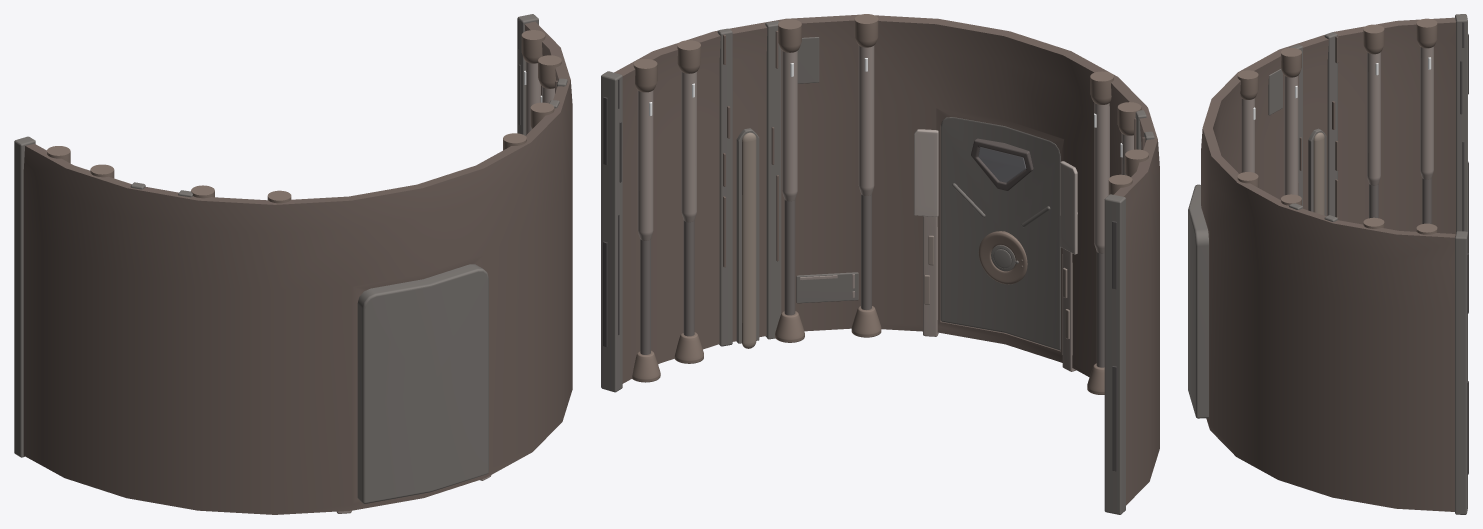
File: chuancang.fbx
3 renders of one model, left to right at view 1: azimuth 30°, elevation 25°; view 2: azimuth 150°, elevation 25°; view 3: azimuth 270°, elevation 25°, orthographic. The views are drawn at different scales.
Visible parts, largest first — view 1: polySurface441; view 2: polySurface441; view 3: polySurface441.
Boxes of the visible parts, bbox=[...] form: polySurface441: bbox=[14, 14, 572, 514]; polySurface441: bbox=[601, 14, 1159, 514]; polySurface441: bbox=[1188, 14, 1468, 514].
Size of the model in its own units: 2.07 by 1.21 by 1.09.
1 material, 1 textured.
